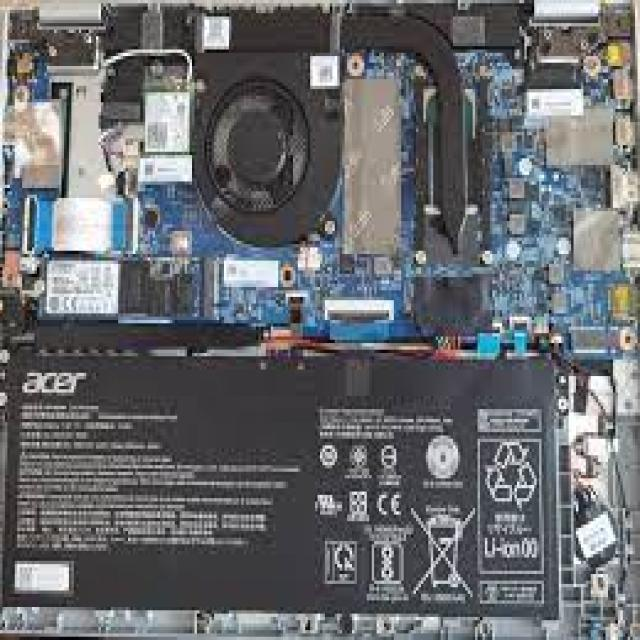NIC: (0, 340, 572, 640)
SSD: (130, 83, 197, 167)
